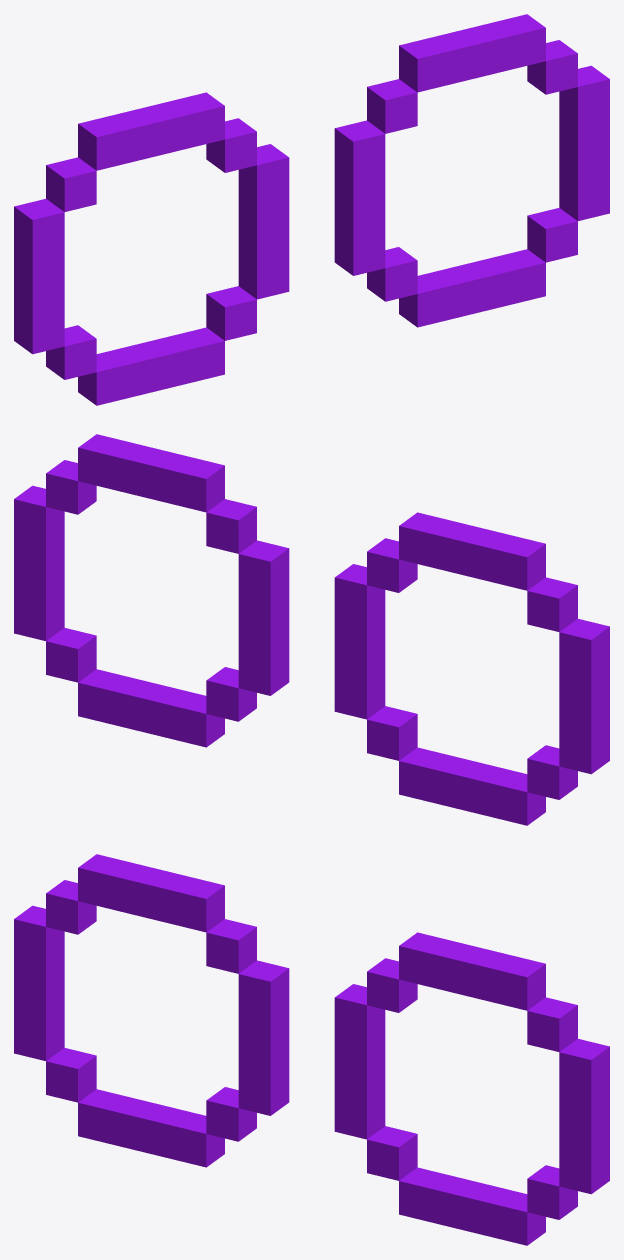
The picture shows the model from 3 angles, top to bottom: view 1: azimuth 30°, elevation 25°; view 2: azimuth 150°, elevation 25°; view 3: azimuth 330°, elevation 25°; orthographic projection.
Parts seen in each view (by area): view 1: 53; view 2: 53; view 3: 53.
Part boxes in pixels (box(x1,y1,x2,y2)): 53: box(14, 14, 609, 405); 53: box(14, 434, 609, 825); 53: box(14, 854, 609, 1245).
Size of the model in its own units: 180 by 80 by 10.
Materials: 1 (1 with a texture image).
